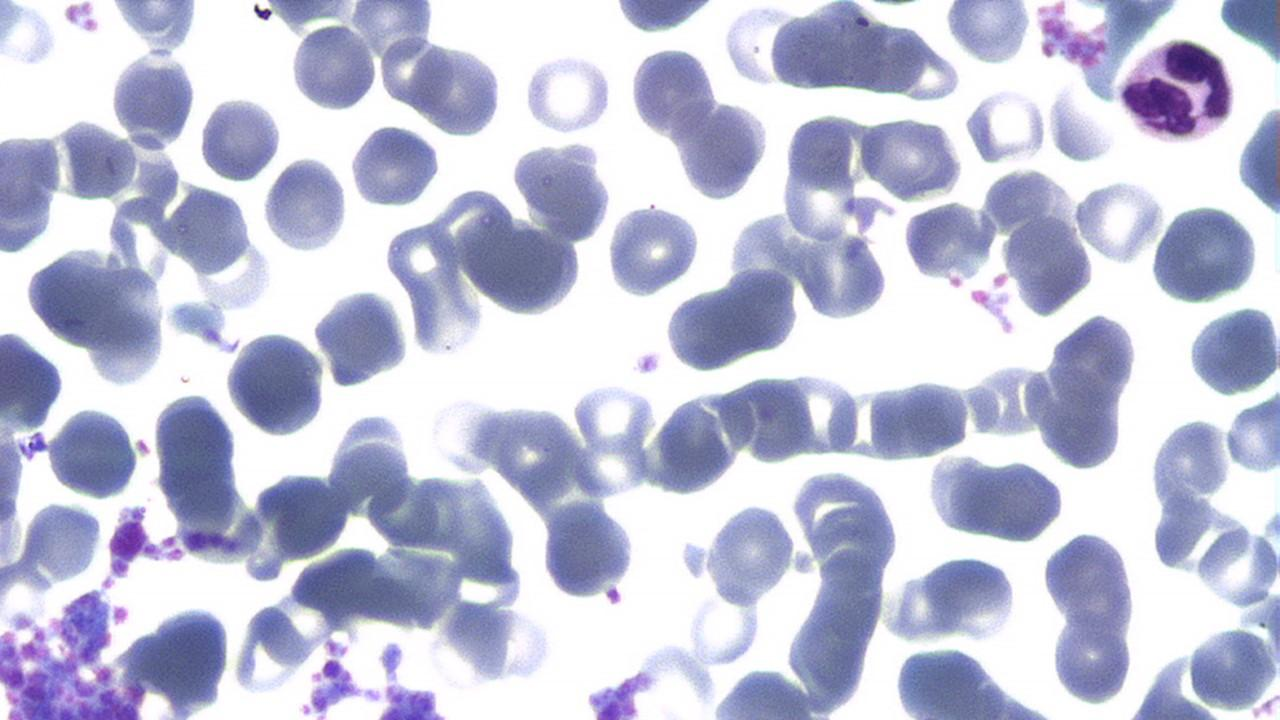Platelets: (167, 297, 225, 340), (60, 1, 103, 36), (680, 538, 710, 584), (377, 638, 406, 676), (632, 346, 664, 379), (197, 324, 228, 349), (24, 428, 49, 456), (357, 682, 387, 704), (1262, 509, 1280, 542), (602, 584, 626, 608), (121, 502, 148, 522)
RBC: (20, 235, 168, 386), (1019, 307, 1143, 471), (660, 267, 804, 377), (222, 322, 332, 438), (888, 644, 1058, 718), (1149, 200, 1261, 306), (511, 132, 618, 240), (310, 284, 415, 394), (1040, 527, 1138, 643), (668, 95, 770, 203), (540, 494, 639, 602), (998, 213, 1097, 319), (702, 496, 798, 603), (1184, 299, 1280, 399), (109, 46, 197, 154), (859, 112, 965, 201), (605, 201, 701, 298), (796, 226, 890, 324), (47, 402, 139, 502), (262, 152, 349, 257), (921, 551, 1019, 644), (628, 42, 718, 142), (898, 198, 998, 288), (724, 369, 816, 466), (1186, 620, 1276, 715), (414, 42, 504, 136), (1073, 175, 1167, 265), (1049, 611, 1135, 708), (349, 120, 441, 210), (288, 21, 378, 113), (0, 128, 63, 259), (976, 457, 1068, 544), (522, 49, 614, 136), (197, 93, 282, 186), (0, 326, 67, 435), (56, 113, 136, 204), (783, 366, 862, 458), (964, 84, 1045, 165), (428, 392, 506, 476), (572, 379, 654, 457), (896, 374, 972, 458), (686, 586, 760, 666), (570, 431, 652, 501), (942, 3, 1032, 65), (1045, 88, 1117, 164), (378, 32, 450, 107), (1224, 387, 1280, 477), (607, 0, 723, 32)
WBC: (1114, 33, 1240, 148)
